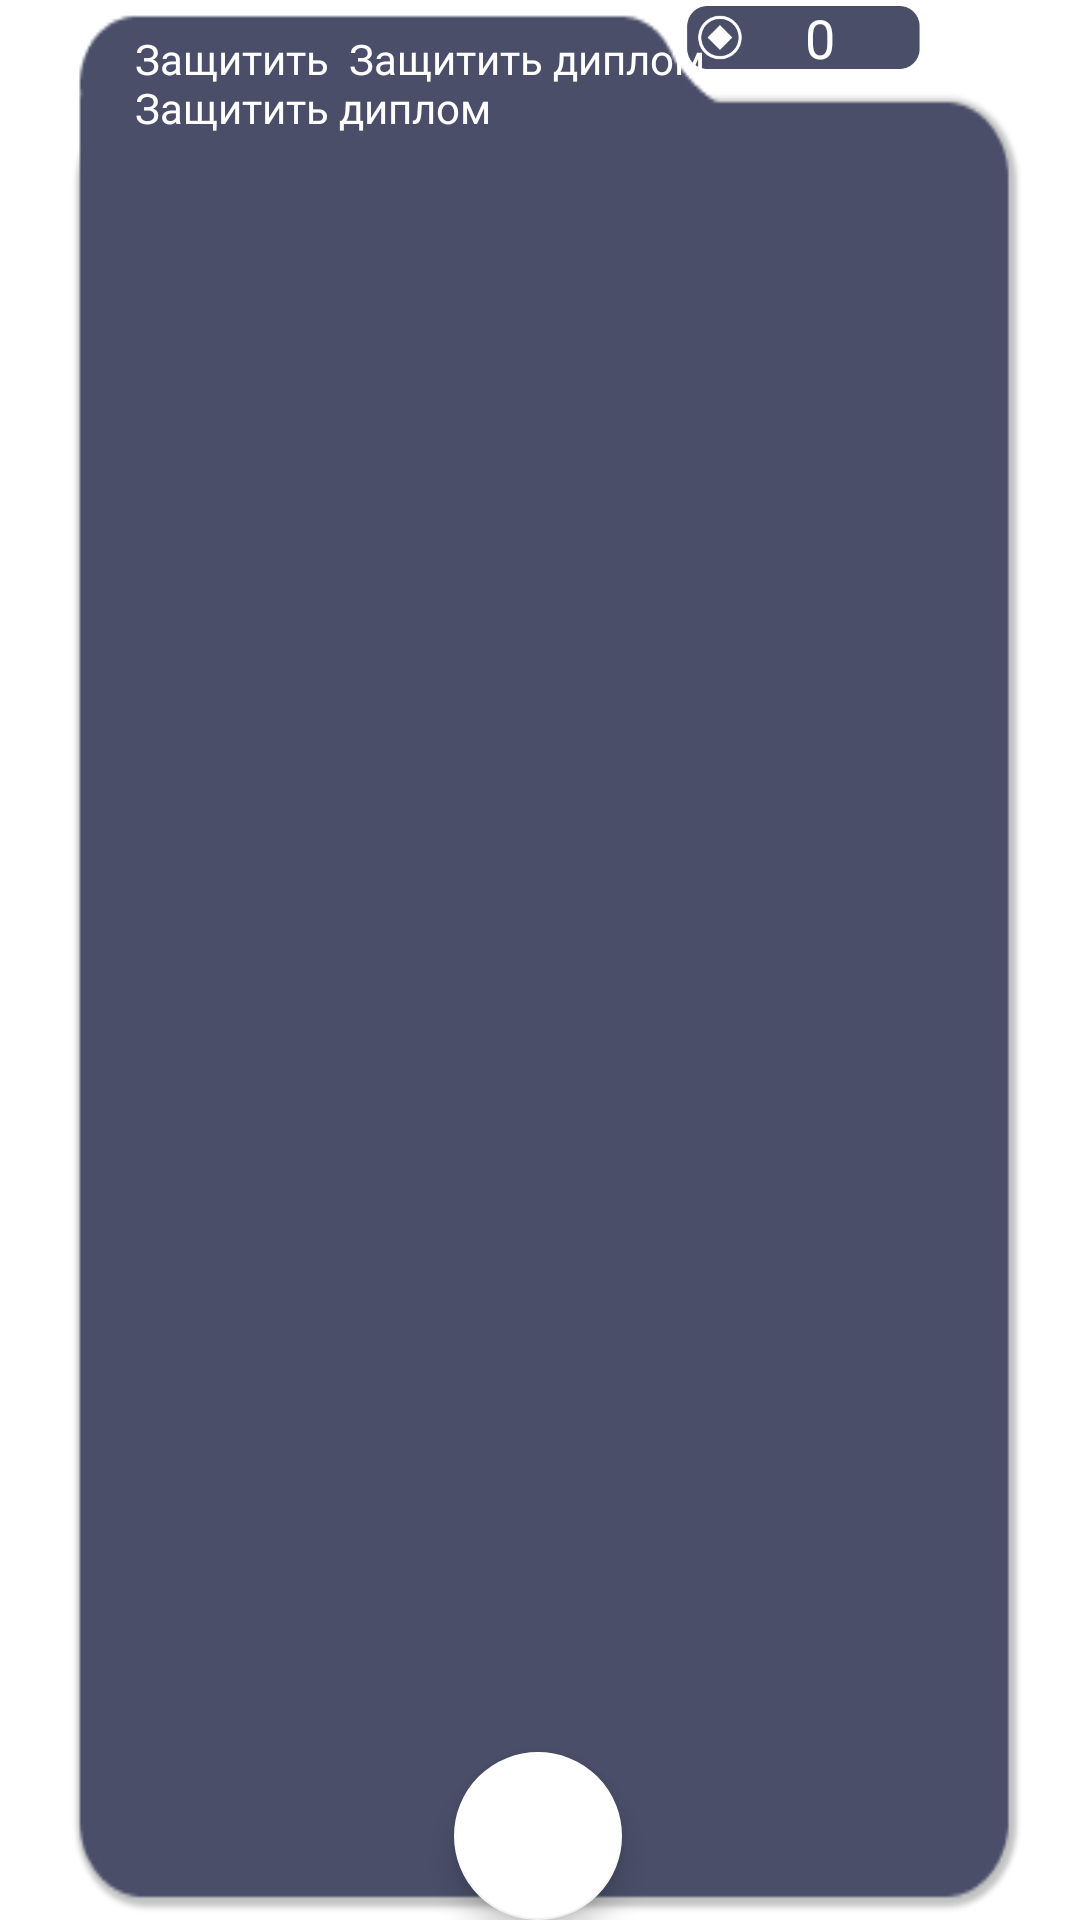

Point at icon controls on the screen. Image size 1080×1920, points as (x=x, y=y).
point plank: (x=788, y=39)
